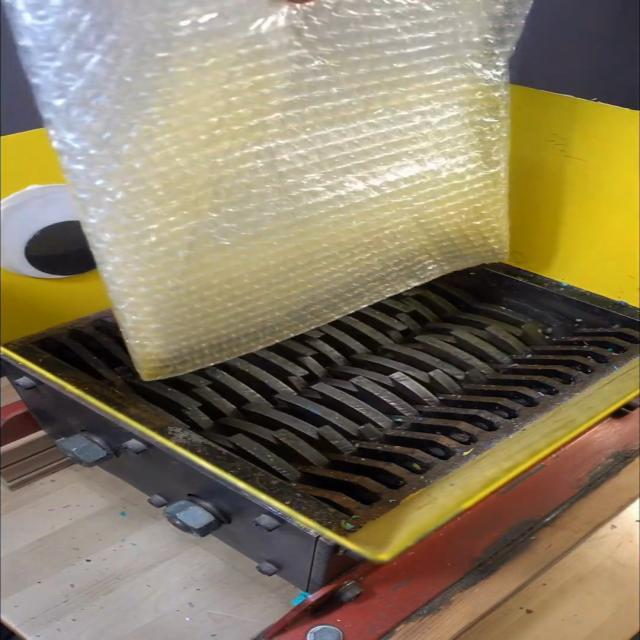Broyeur: (0, 247, 640, 550)
